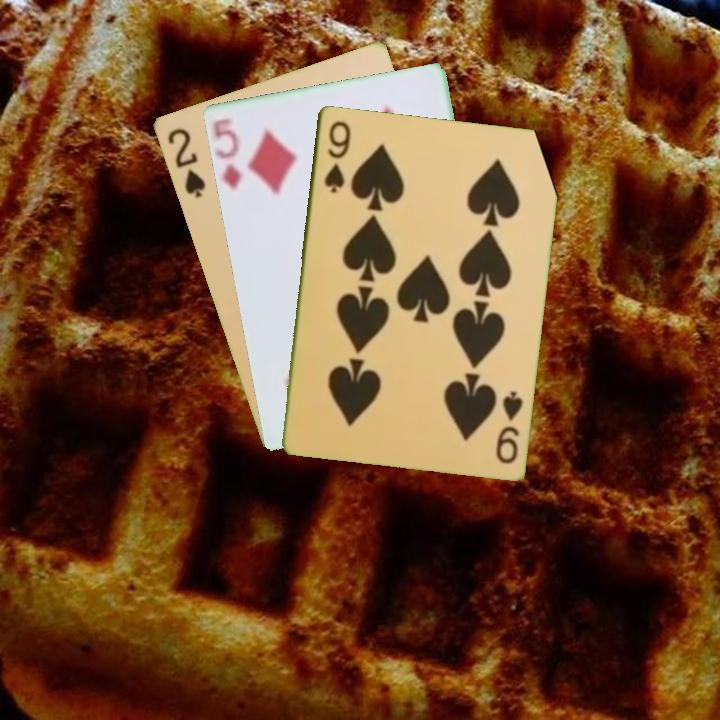2s: (163, 124, 208, 201)
5d: (209, 118, 245, 193)
9s: (320, 116, 354, 196), (492, 387, 526, 466)
